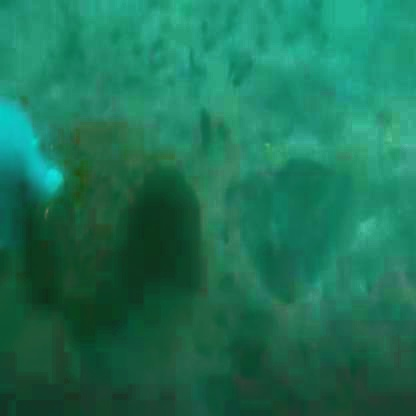misc: (72, 118, 193, 347)
